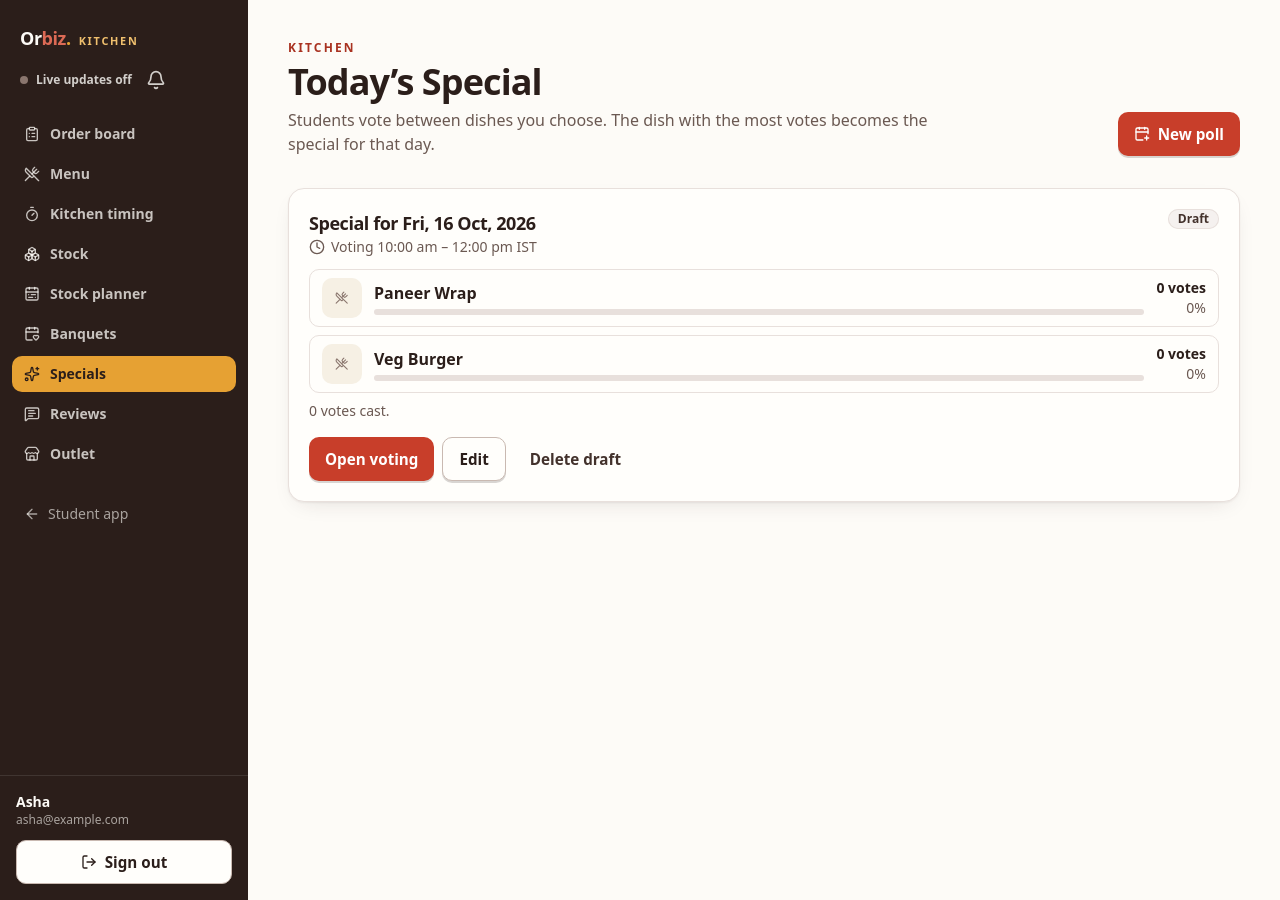
Test: Today’s Special management › previews a draft and opens voting after confirmation
The image size is (1280, 900).
Expected: the text "Draft" is shown, [1168, 209, 1219, 229]
Expected: the text "Paneer Wrap" is shown, [374, 281, 477, 305]
Click the button "Open voting" at (372,459), box [309, 437, 434, 481]
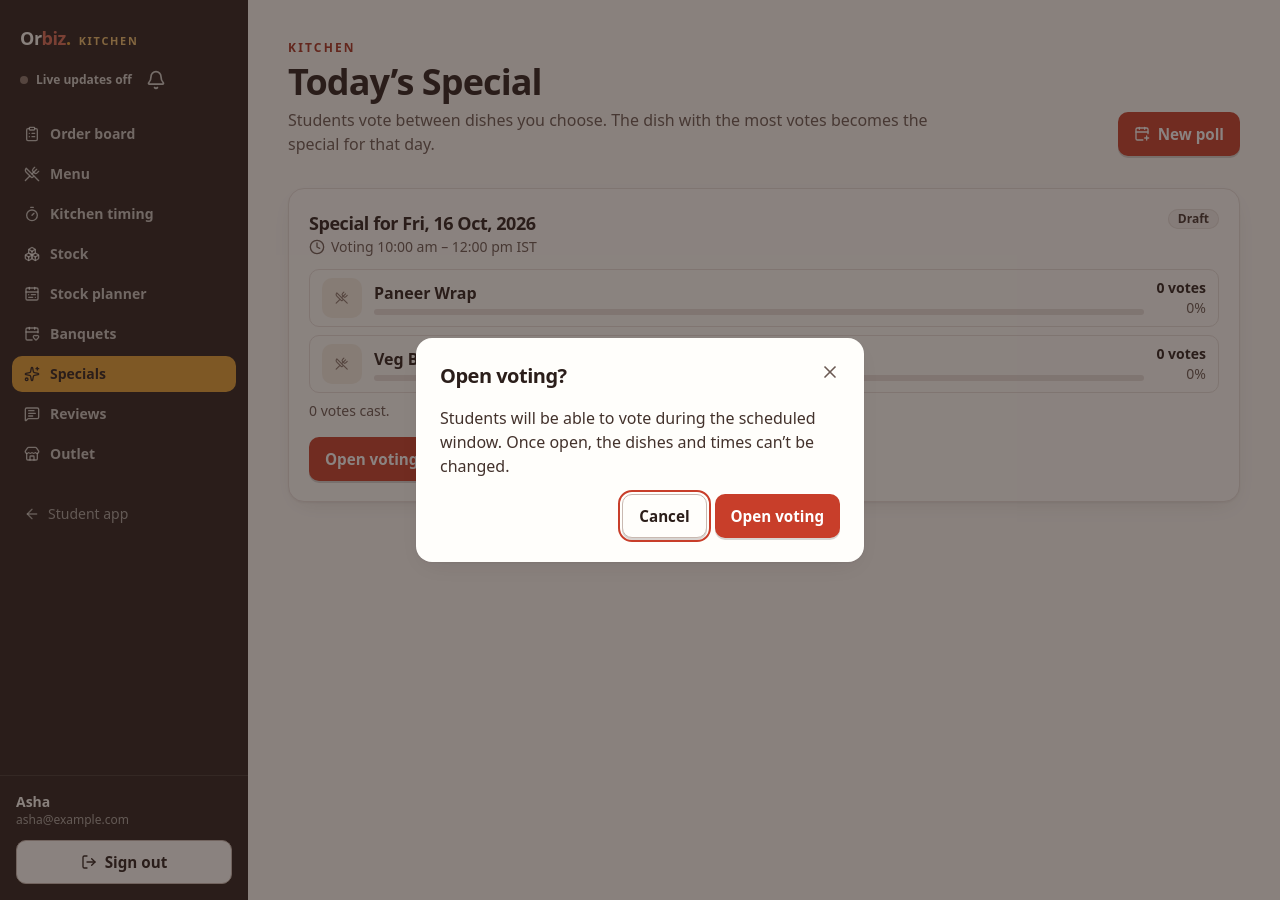
Click the button "Open voting" at (777,516), box [714, 494, 840, 538]
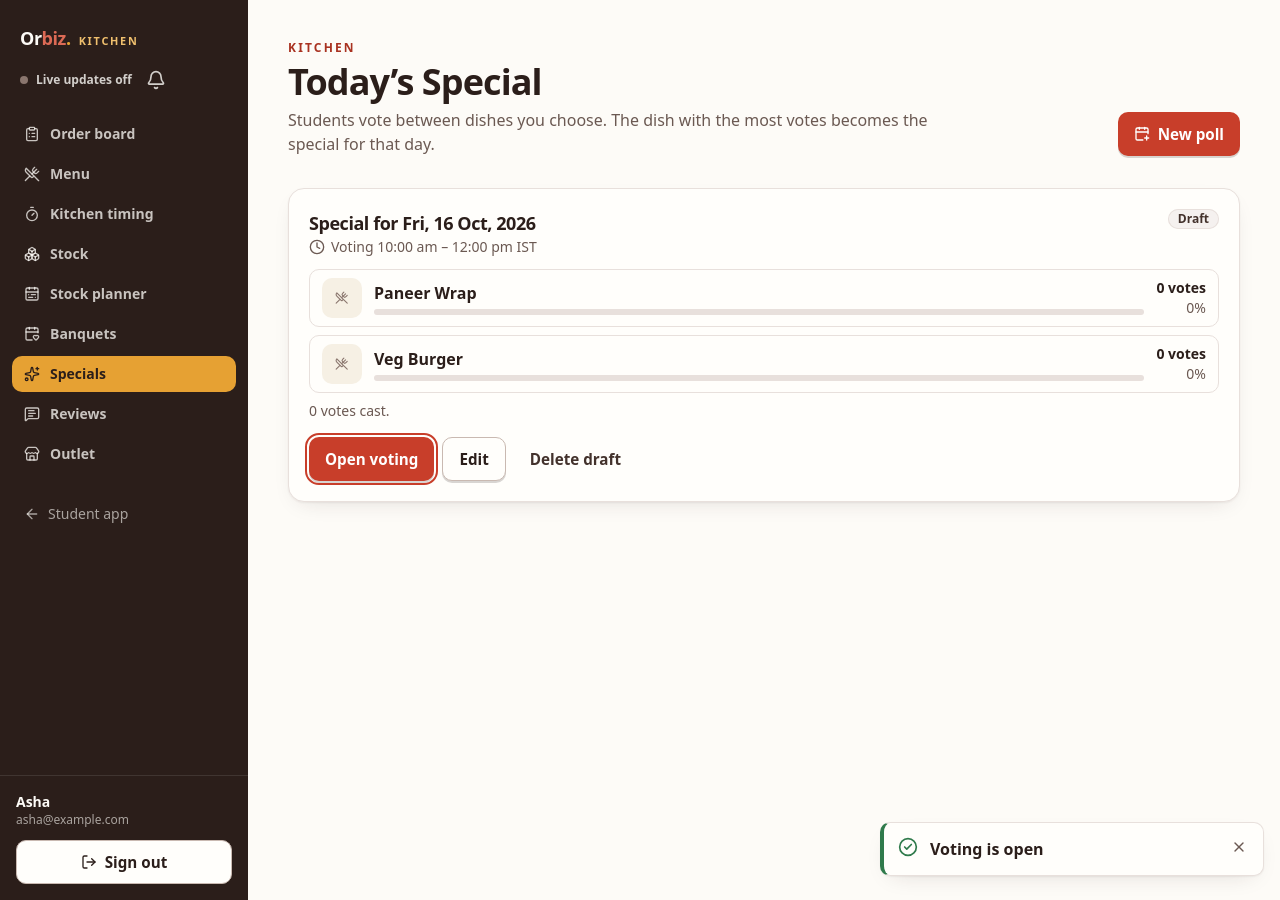
Expected: the text "Voting is open" is shown, [930, 838, 1044, 860]
